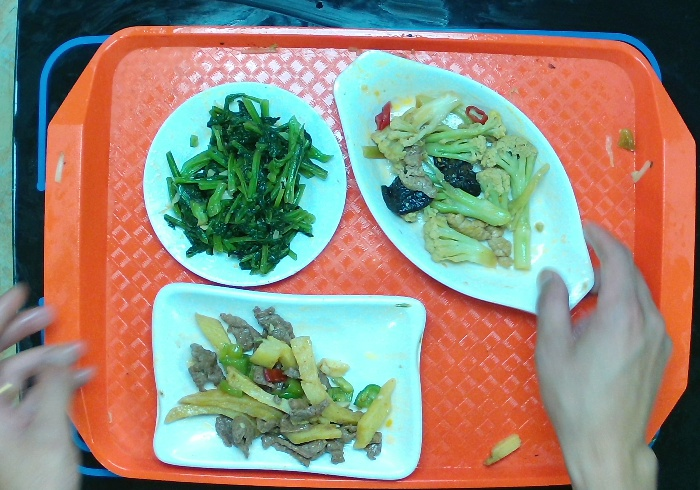RJxy-Si_Fang_Ao_Bian_Wan: (145, 281, 430, 486)
RJxy-Xiao_Yuan_Die: (141, 79, 348, 288)
RJxy-Yu_Pan: (329, 46, 593, 319)
